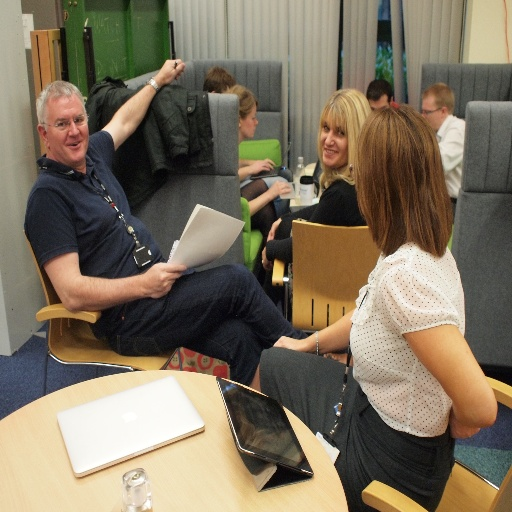hand: (127, 247, 175, 302), (449, 407, 482, 440), (156, 57, 185, 86), (266, 179, 291, 203), (245, 156, 275, 175), (272, 334, 303, 352), (259, 246, 273, 273), (266, 219, 282, 242)
